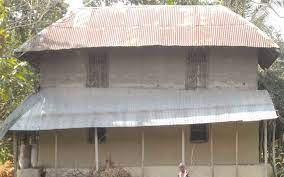Mud House: (13, 4, 278, 171)
